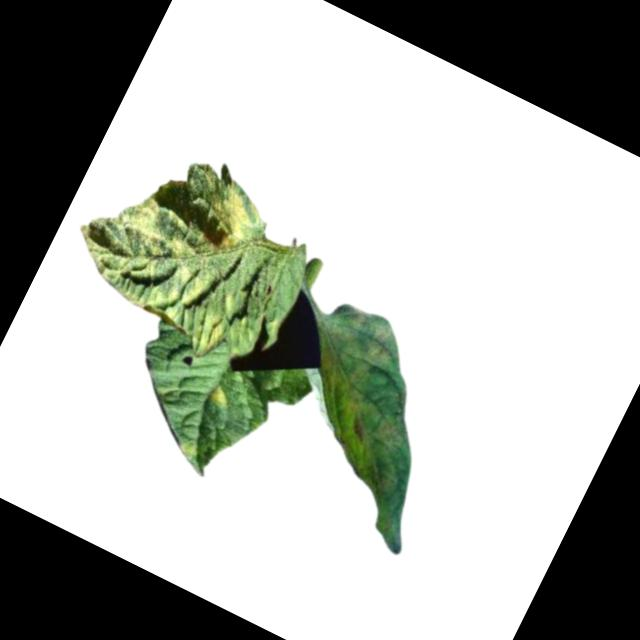Leaf_Mold: (59, 120, 295, 362), (290, 295, 401, 429), (202, 381, 234, 413)
